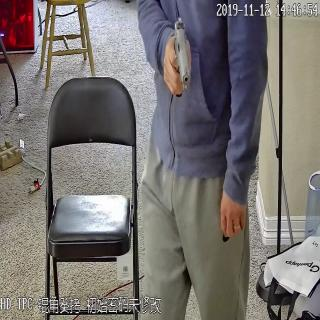gun: (164, 16, 200, 104)
